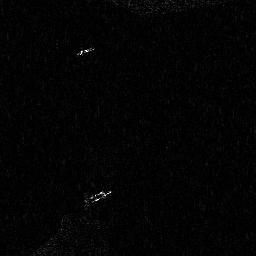ship: (82, 188, 116, 205), (74, 44, 95, 56)
